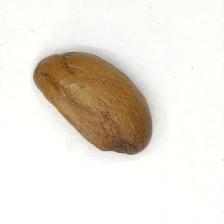NG: (99, 138, 146, 159)
